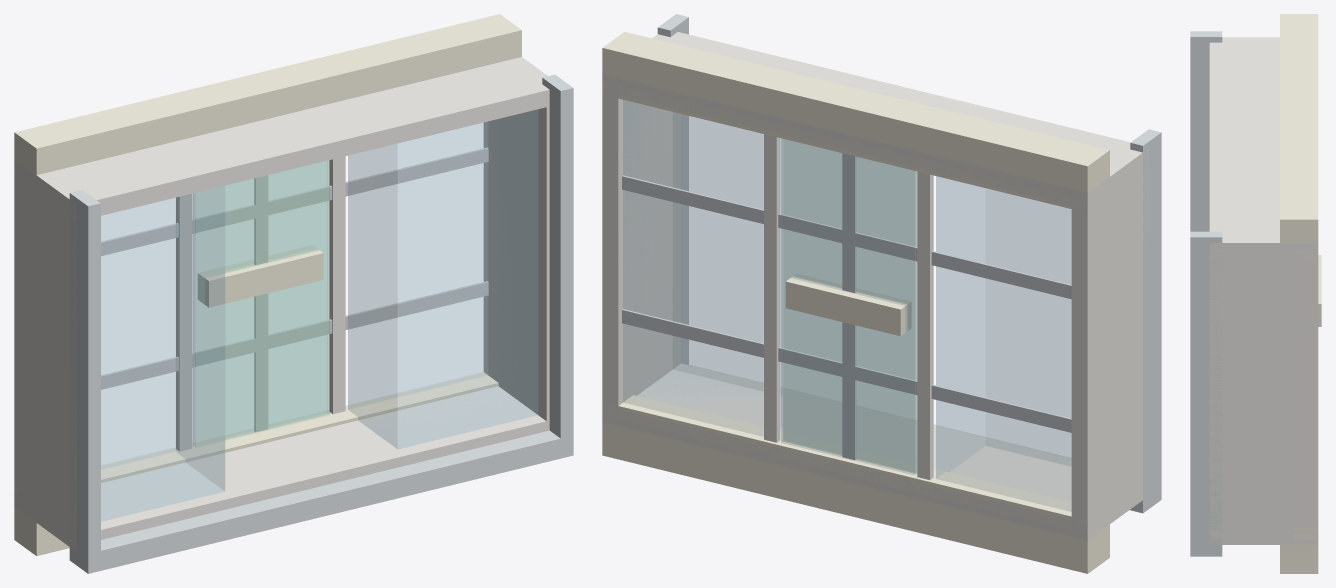
File: bay_window.glb
3 views of the same model, side by side, from view 1: azimuth 30°, elevation 25°; view 2: azimuth 150°, elevation 25°; view 3: azimuth 270°, elevation 25° (orthographic). The views are drawn at different scales.
Visible parts, largest first — view 1: frame, glass_right, glass_left, trim_victorian, trim_modern, glazing_extra, glass_center, trim_edwardian; view 2: frame, trim_victorian, glass_right, glass_center, glass_left, glazing_extra, trim_edwardian, trim_modern; view 3: frame, trim_modern, trim_victorian.
Boxes of the visible parts, x1,y1,x2,y2 form: frame: (14,57,549,551); glass_right: (348,109,537,448); glass_left: (101,186,224,521); trim_victorian: (14,14,521,556); trim_modern: (69,74,573,573); glazing_extra: (195,160,329,446); glass_center: (193,161,328,445); trim_edwardian: (101,147,488,432); frame: (602,32,1150,540); trim_victorian: (602,31,1109,573); glass_right: (623,100,782,436); glass_center: (781,138,916,474); glass_left: (936,176,1071,511); glazing_extra: (783,139,916,472); trim_edwardian: (622,153,1071,460); trim_modern: (657,14,1161,513); frame: (1209,37,1318,544); trim_modern: (1190,31,1222,556); trim_victorian: (1280,14,1321,573).
Bounding box in the file's own units: 1.52 × 1.22 × 0.41.
